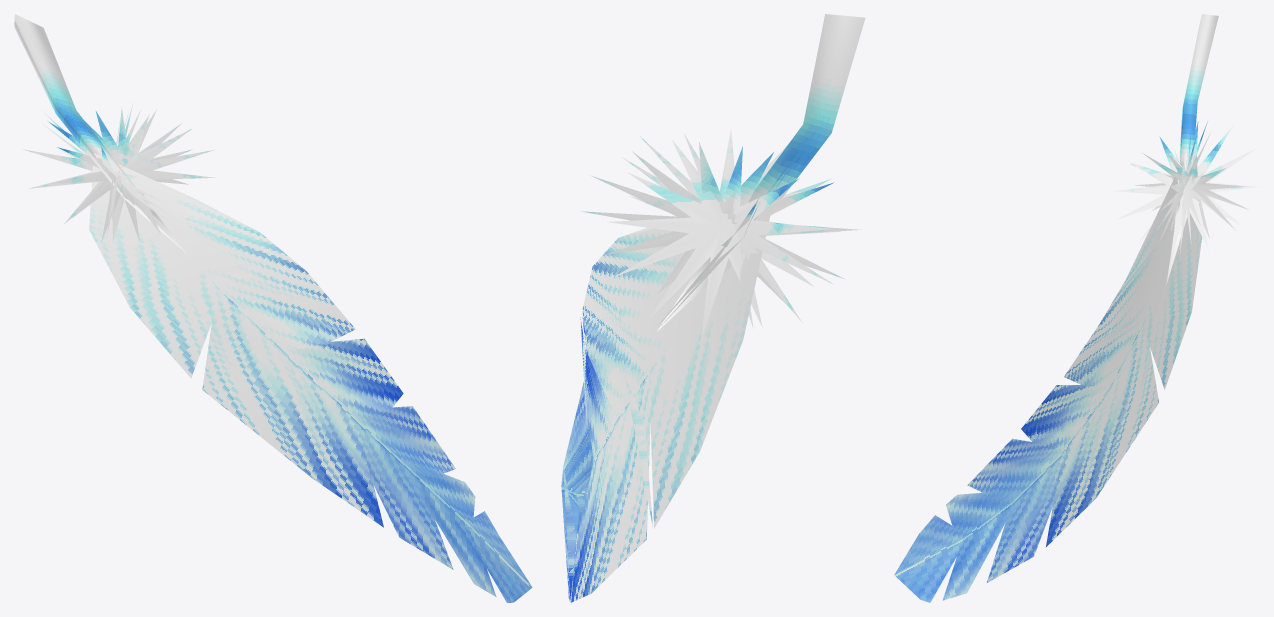
File: ps2_save-icons_torikagonomukougawa.glb
3 views of the same model, side by side, from view 1: azimuth 30°, elevation 25°; view 2: azimuth 150°, elevation 25°; view 3: azimuth 270°, elevation 25° (orthographic). The views are drawn at different scales.
Visible parts, largest first — view 1: torikago.ico; view 2: torikago.ico; view 3: torikago.ico.
Part boxes in pixels (<box>): torikago.ico: <box>14,14,532,602</box>; torikago.ico: <box>561,14,865,602</box>; torikago.ico: <box>894,14,1258,602</box>.
Bounding box in the file's own units: 2.7 × 4.15 × 3.03.
1 material, 1 textured.
